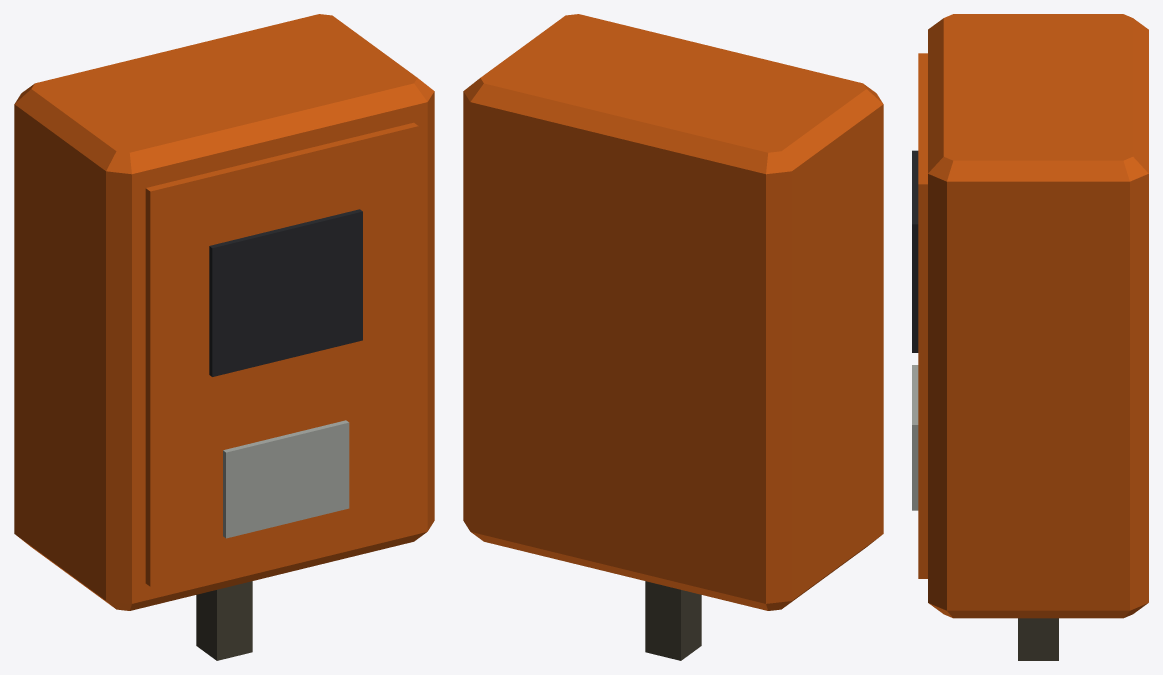
File: SM_Street_MeterBox_01.fbx
The picture shows the model from 3 angles, left to right: view 1: azimuth 30°, elevation 25°; view 2: azimuth 150°, elevation 25°; view 3: azimuth 270°, elevation 25°; orthographic projection.
Visible parts, largest first — view 1: SM_Street_MeterBox_01; view 2: SM_Street_MeterBox_01; view 3: SM_Street_MeterBox_01.
Part boxes in pixels (box(x1,y1,x2,y2)): SM_Street_MeterBox_01: box(14, 14, 434, 660); SM_Street_MeterBox_01: box(463, 14, 883, 660); SM_Street_MeterBox_01: box(912, 14, 1148, 660).
Size of the model in its own units: 0.24 by 0.395 by 0.15.
1 material, 1 textured.
